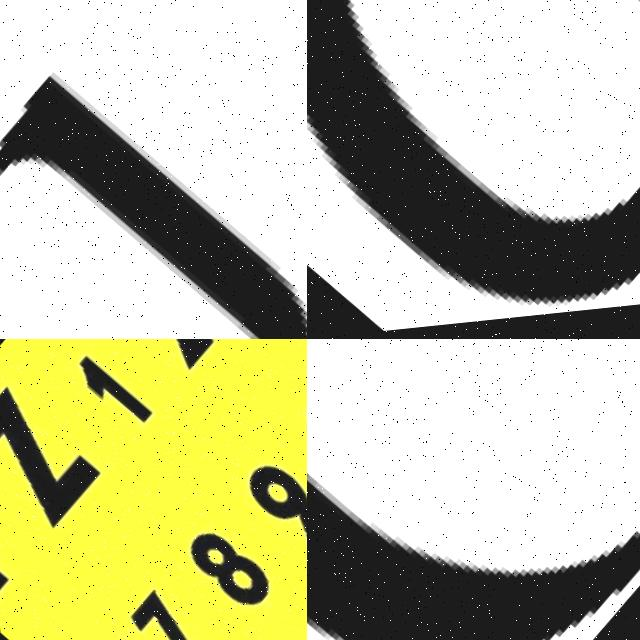0: (281, 380, 307, 511)
1: (51, 339, 157, 447)
2: (99, 339, 226, 392)
7: (104, 577, 226, 640)
8: (160, 511, 286, 640)
9: (222, 448, 307, 573)
C: (307, 0, 640, 314), (307, 485, 640, 640)
J: (0, 0, 307, 339)
